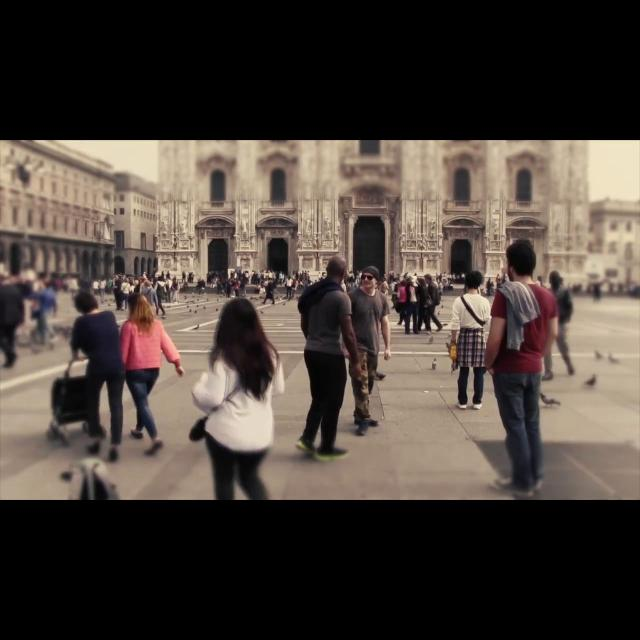head: (223, 298, 257, 338), (507, 242, 538, 282), (325, 256, 347, 284), (73, 292, 97, 314), (128, 294, 148, 318), (464, 270, 484, 290), (361, 267, 379, 289), (549, 270, 563, 286), (424, 274, 432, 284), (409, 278, 417, 286), (418, 278, 424, 286), (124, 278, 130, 284), (145, 282, 151, 288), (159, 276, 165, 282), (401, 281, 407, 287), (144, 278, 148, 284), (118, 275, 122, 279), (101, 276, 105, 280), (174, 277, 178, 281), (268, 279, 272, 283), (392, 278, 396, 282), (166, 276, 170, 280), (289, 277, 291, 279)
person: (481, 238, 561, 500), (293, 254, 363, 464), (120, 291, 186, 455), (68, 291, 126, 463), (341, 264, 391, 436), (450, 270, 492, 410), (540, 270, 576, 382), (137, 280, 159, 338), (421, 273, 443, 331), (415, 278, 433, 334), (404, 276, 421, 334), (154, 275, 168, 319), (397, 280, 409, 326), (139, 277, 151, 317), (112, 274, 124, 310), (120, 277, 132, 311), (261, 277, 275, 305), (164, 276, 174, 304), (99, 274, 108, 304), (389, 278, 398, 308), (173, 276, 181, 304), (284, 276, 292, 300)
